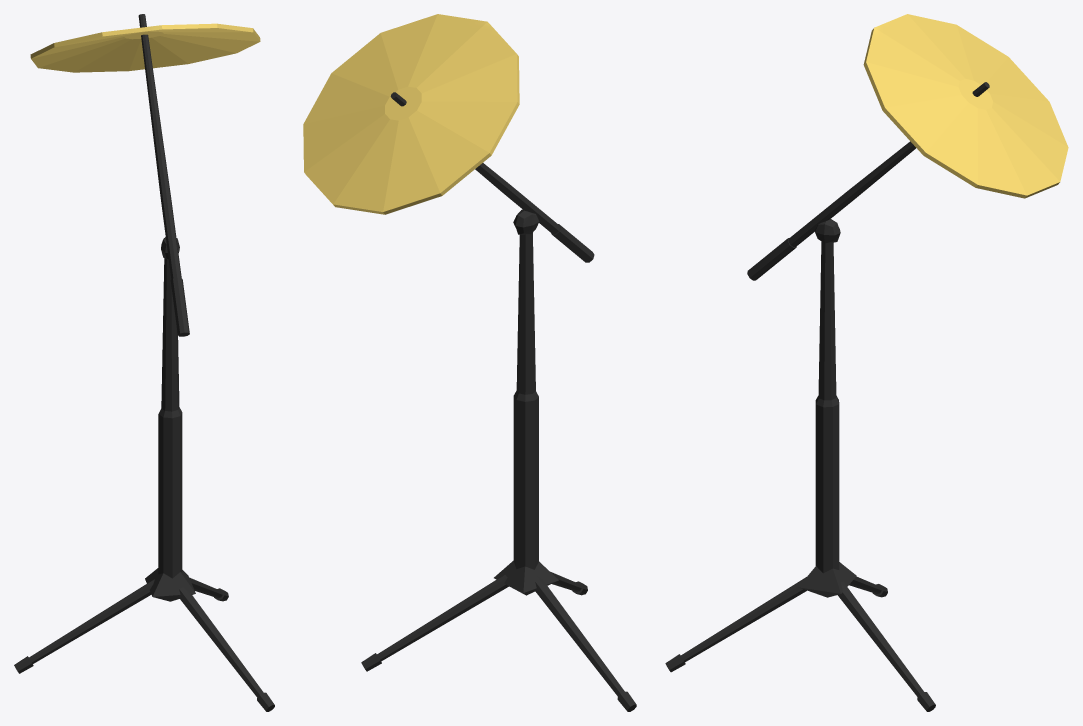
Rendered from drum3.fbx.
The picture shows the model from 3 angles, left to right: view 1: azimuth 30°, elevation 25°; view 2: azimuth 150°, elevation 25°; view 3: azimuth 270°, elevation 25°; orthographic projection. The views are drawn at different scales.
Visible parts, largest first — view 1: drum3; view 2: drum3; view 3: drum3.
Boxes of the visible parts, bbox=[...] form: drum3: bbox=[14, 14, 274, 711]; drum3: bbox=[303, 14, 636, 711]; drum3: bbox=[665, 14, 1068, 711].
Size of the model in its own units: 35.92 by 45.09 by 78.96.
